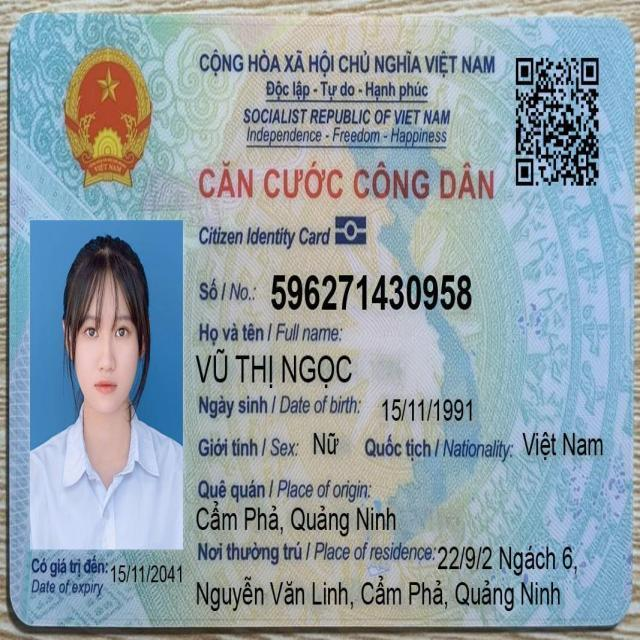current_place: (193, 573, 562, 616), (435, 542, 580, 578)
dob: (381, 394, 475, 427)
expire_date: (109, 562, 184, 585)
gender: (313, 429, 340, 457)
id: (270, 270, 474, 315)
name: (194, 346, 354, 392)
nationality: (521, 430, 605, 463)
origin_place: (193, 497, 398, 540)
